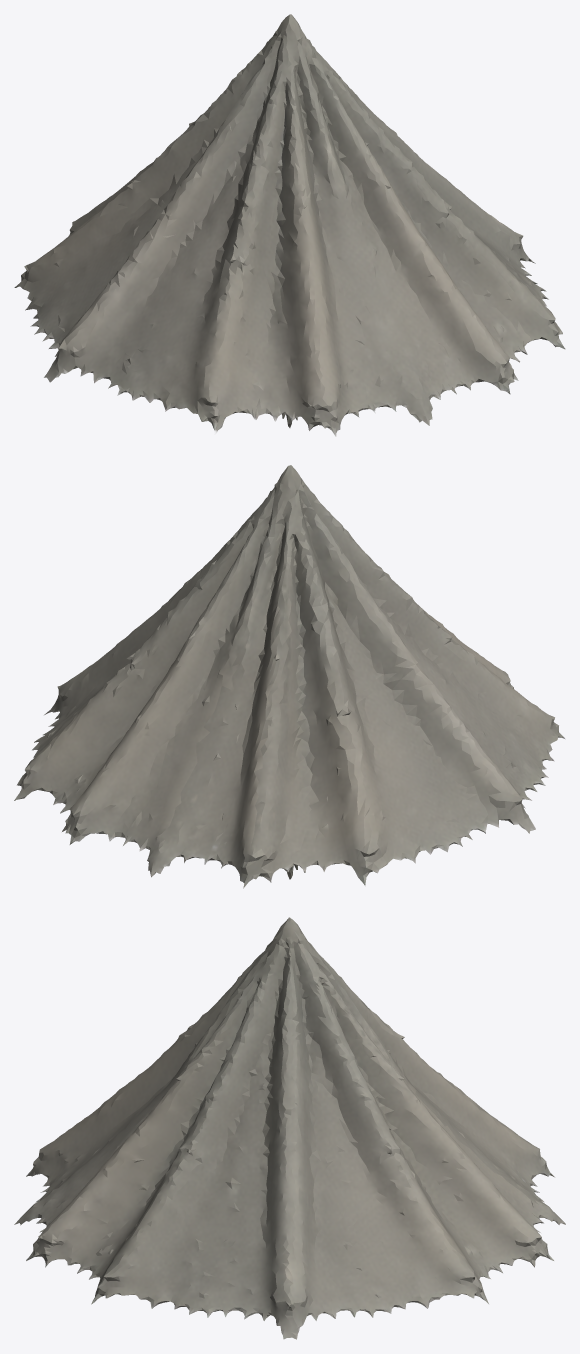
3 views of the same model, one above another, from view 1: azimuth 30°, elevation 25°; view 2: azimuth 150°, elevation 25°; view 3: azimuth 270°, elevation 25° (orthographic).
Visible parts, largest first — view 1: FrostThreadCloak; view 2: FrostThreadCloak; view 3: FrostThreadCloak.
Boxes of the visible parts, x1,y1,x2,y2 form: FrostThreadCloak: (14, 14, 565, 436); FrostThreadCloak: (14, 465, 565, 888); FrostThreadCloak: (14, 917, 565, 1339).
Size of the model in its own units: 1.9 by 1.55 by 1.89.
1 material, 1 textured.
